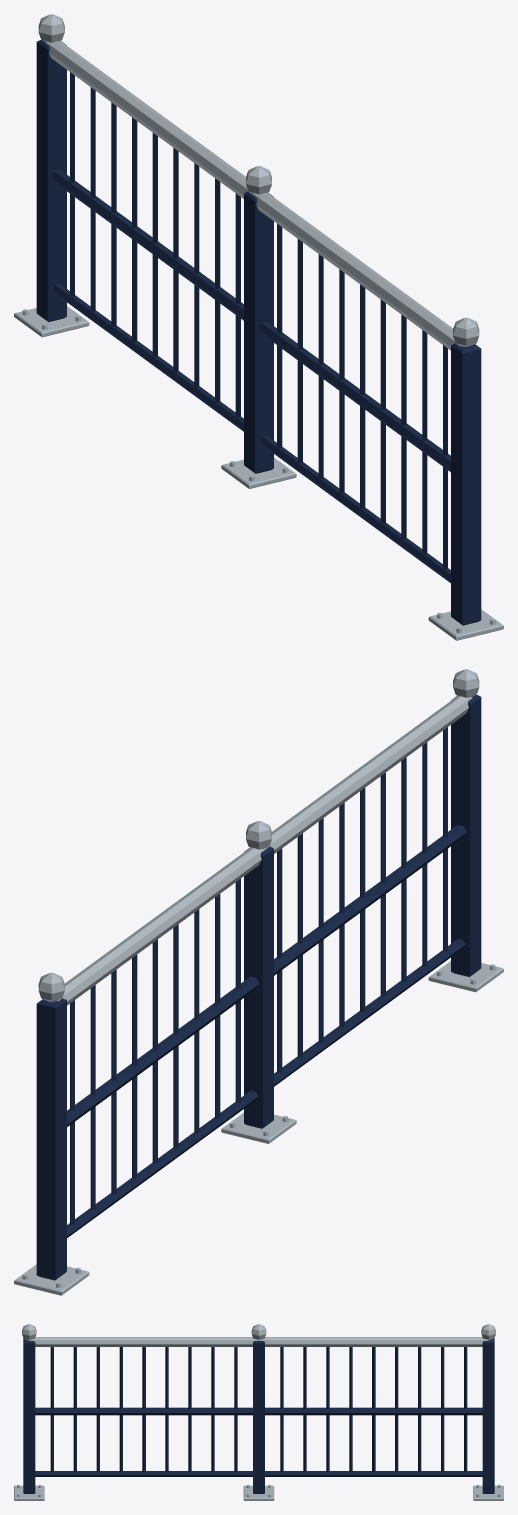
The model's file is HARBOR_12.obj.
3 renders of one model, top to bottom at view 1: azimuth 30°, elevation 25°; view 2: azimuth 150°, elevation 25°; view 3: azimuth 270°, elevation 25°, orthographic. The views are drawn at different scales.
Parts seen in each view (by area): view 1: HARBOR_12__posts, HARBOR_12__balusters, HARBOR_12__top_rail, HARBOR_12__mid_rail, HARBOR_12__bottom_rail, HARBOR_12__base_plate, HARBOR_12__finials; view 2: HARBOR_12__posts, HARBOR_12__balusters, HARBOR_12__top_rail, HARBOR_12__mid_rail, HARBOR_12__bottom_rail, HARBOR_12__base_plate, HARBOR_12__finials; view 3: HARBOR_12__balusters, HARBOR_12__posts, HARBOR_12__top_rail, HARBOR_12__mid_rail, HARBOR_12__bottom_rail, HARBOR_12__base_plate, HARBOR_12__finials.
Boxes of the visible parts, <box> form: HARBOR_12__posts: <box>36,40,481,625</box>; HARBOR_12__balusters: <box>70,72,447,569</box>; HARBOR_12__top_rail: <box>45,41,461,350</box>; HARBOR_12__mid_rail: <box>51,170,450,471</box>; HARBOR_12__bottom_rail: <box>52,283,450,582</box>; HARBOR_12__base_plate: <box>14,306,503,640</box>; HARBOR_12__finials: <box>38,14,479,346</box>; HARBOR_12__posts: <box>36,695,481,1280</box>; HARBOR_12__balusters: <box>70,727,447,1224</box>; HARBOR_12__top_rail: <box>56,696,472,1005</box>; HARBOR_12__mid_rail: <box>67,825,466,1126</box>; HARBOR_12__bottom_rail: <box>67,938,465,1237</box>; HARBOR_12__base_plate: <box>14,961,503,1295</box>; HARBOR_12__finials: <box>38,669,479,1001</box>; HARBOR_12__balusters: <box>50,1347,467,1471</box>; HARBOR_12__posts: <box>23,1338,494,1493</box>; HARBOR_12__top_rail: <box>29,1337,488,1346</box>; HARBOR_12__mid_rail: <box>35,1407,482,1415</box>; HARBOR_12__bottom_rail: <box>35,1471,482,1476</box>; HARBOR_12__base_plate: <box>14,1484,503,1500</box>; HARBOR_12__finials: <box>22,1324,495,1340</box>.
Bounding box in the file's own units: 0.2 × 1.23 × 3.2.
